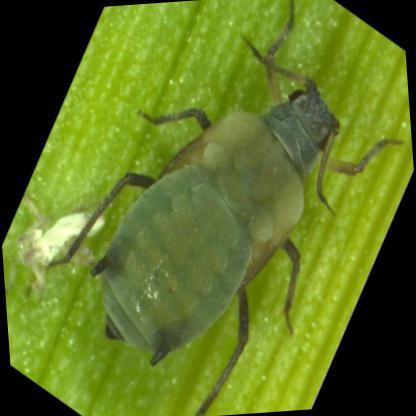schizaphis graminum: (59, 0, 341, 415)
